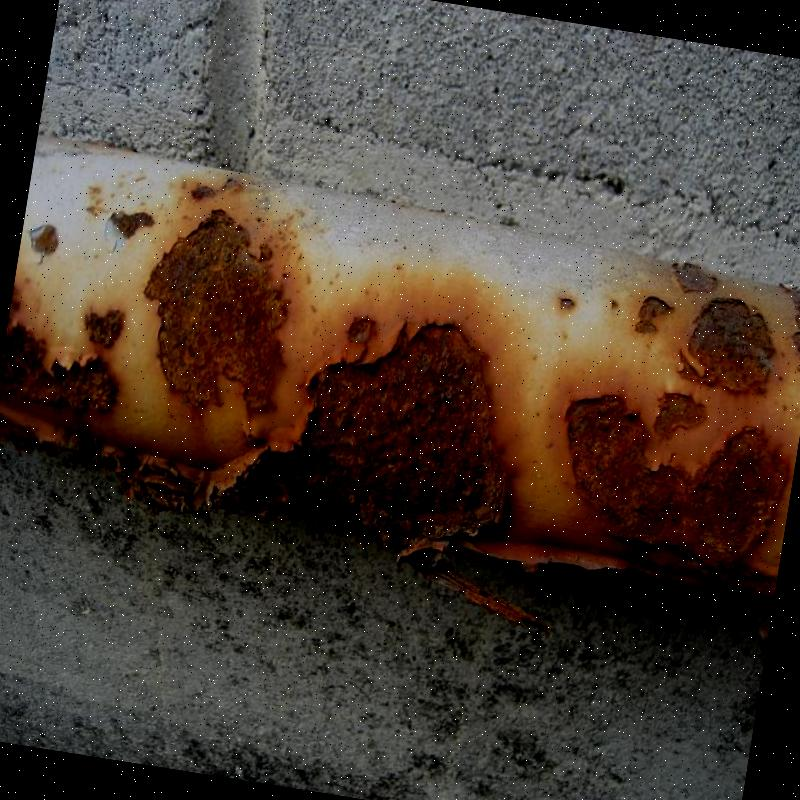corrosion: (98, 161, 755, 612)
